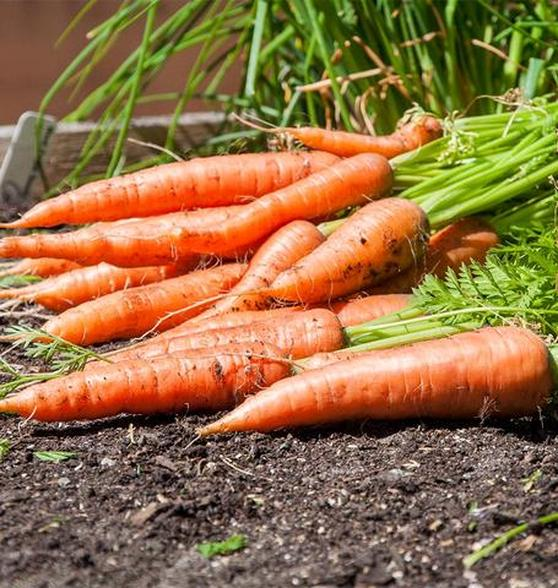carrot: (235, 327, 548, 426), (21, 335, 292, 421), (23, 149, 315, 218)
